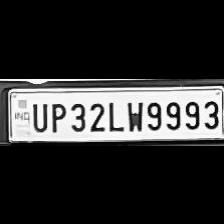2: (86, 97, 106, 132)
3: (66, 98, 86, 132), (200, 95, 220, 129)
9: (180, 96, 200, 130), (142, 97, 162, 130), (162, 96, 180, 130)
L: (105, 97, 123, 131)
P: (47, 98, 66, 132)
U: (28, 98, 48, 132)
W: (123, 96, 143, 132)
